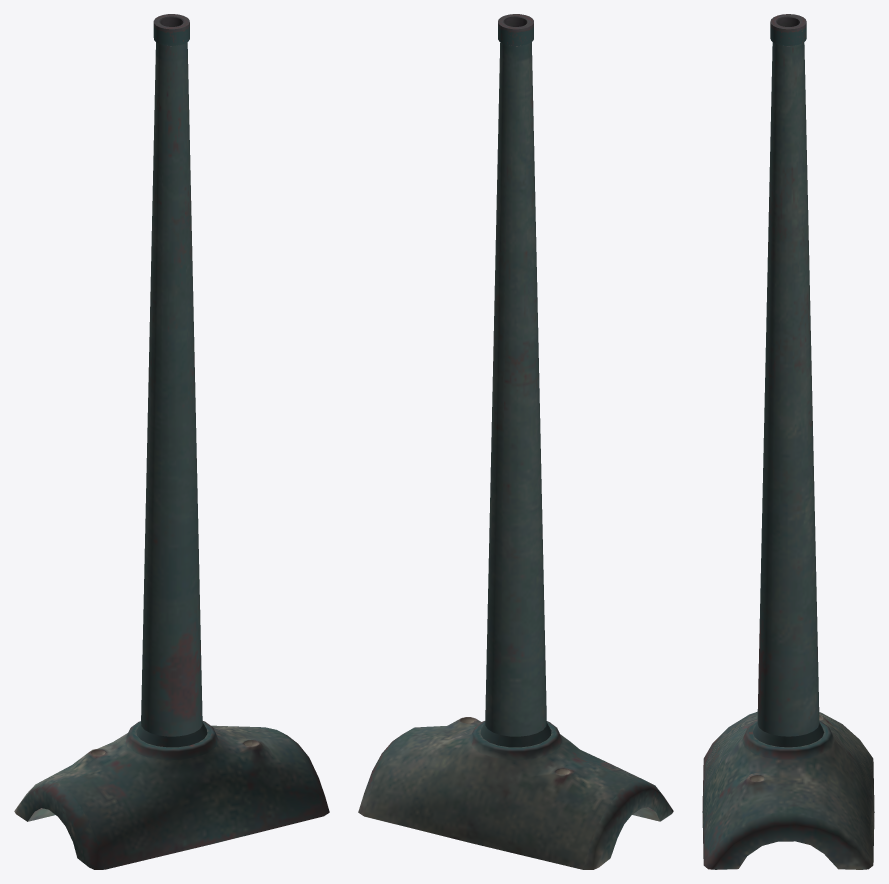
File: Gun_02.glb
The picture shows the model from 3 angles, left to right: view 1: azimuth 30°, elevation 25°; view 2: azimuth 150°, elevation 25°; view 3: azimuth 270°, elevation 25°; orthographic projection.
Visible parts, largest first — view 1: set_0_group_0; view 2: set_0_group_0; view 3: set_0_group_0.
Boxes of the visible parts, left/top/right/bottom form: set_0_group_0: left=14, top=14, right=329, bottom=869; set_0_group_0: left=358, top=14, right=673, bottom=869; set_0_group_0: left=702, top=14, right=874, bottom=869.
Size of the model in its own units: 0.9112 by 2.88 by 0.568.
Materials: 1 (1 with a texture image).
